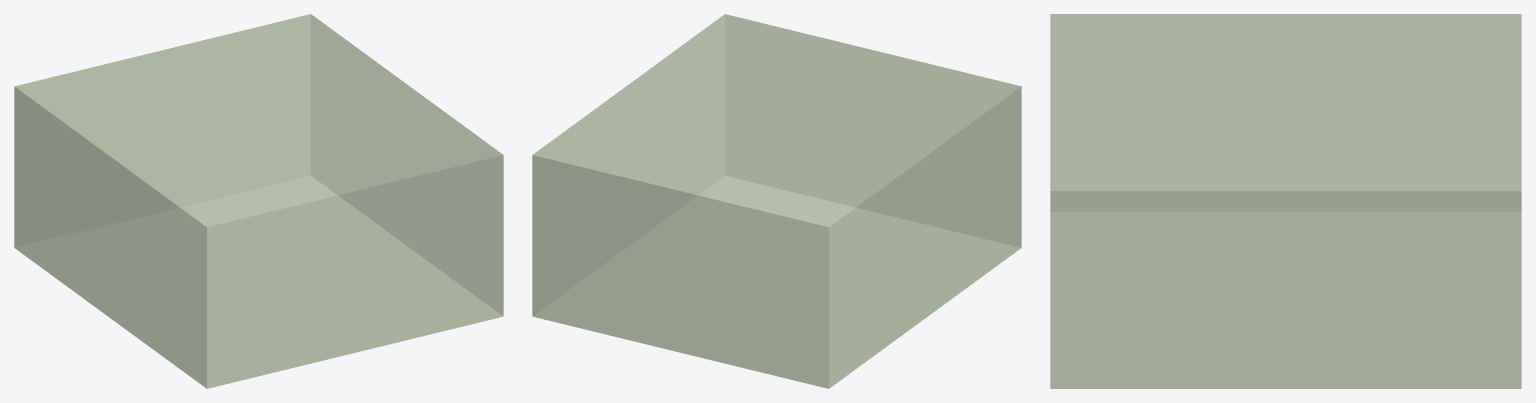
File: blockout.glb
3 renders of one model, left to right at view 1: azimuth 30°, elevation 25°; view 2: azimuth 150°, elevation 25°; view 3: azimuth 270°, elevation 25°, orthographic. The views are drawn at different scales.
Visible parts, largest first — view 1: U14_ENVELOPE_NOT_FINAL_MESH; view 2: U14_ENVELOPE_NOT_FINAL_MESH; view 3: U14_ENVELOPE_NOT_FINAL_MESH.
Boxes of the visible parts, x1,y1,x2,y2 form: U14_ENVELOPE_NOT_FINAL_MESH: [14, 14, 503, 388]; U14_ENVELOPE_NOT_FINAL_MESH: [532, 14, 1021, 388]; U14_ENVELOPE_NOT_FINAL_MESH: [1050, 14, 1521, 388].
Bounding box in the file's own units: 2.4 × 1.25 × 2.7.
